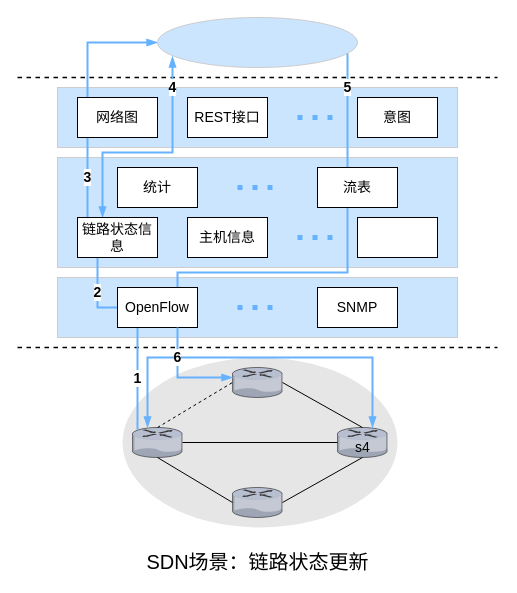
Image size: 517x593. Some labels were removed from this diagram. The shapes that lost their labels are listed below. From the top down, each one's box as (x1, y1, x2, y2) in pixels, then its label:
(156, 16, 358, 68): Dijkstra链路状态路由选择
(356, 216, 438, 258): 交换机信息
(232, 367, 282, 397): s2
(132, 427, 182, 457): s1
(232, 487, 282, 517): s3
